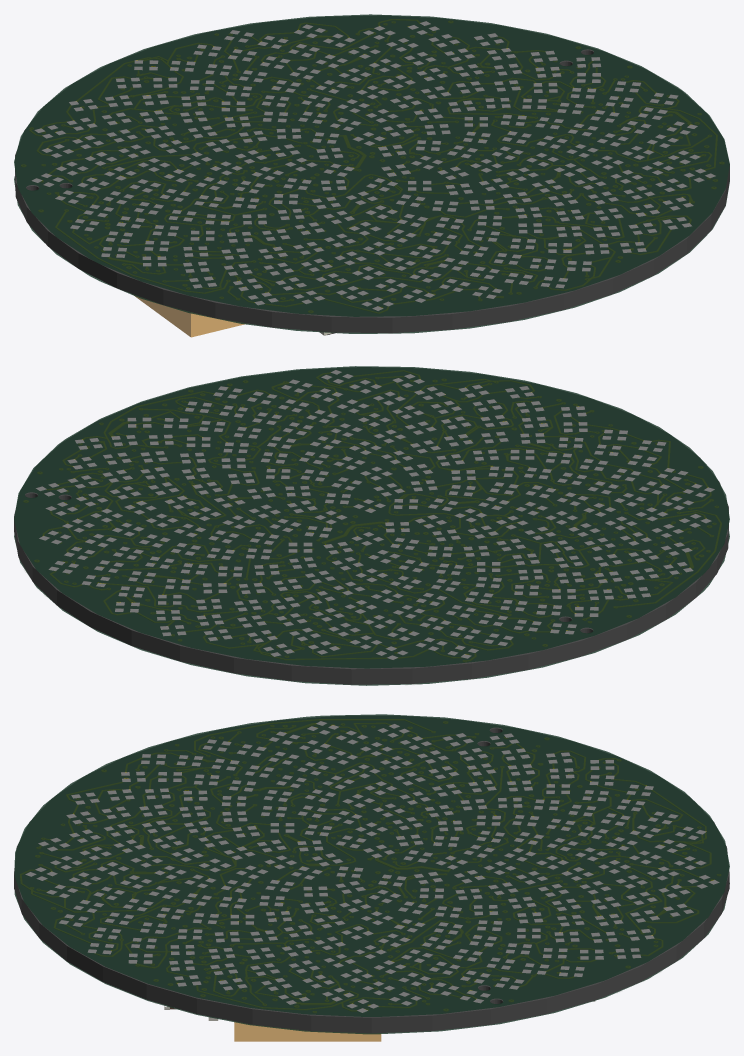
File: board.glb
3 views of the same model, one above another, from view 1: azimuth 30°, elevation 25°; view 2: azimuth 150°, elevation 25°; view 3: azimuth 270°, elevation 25° (orthographic).
Parts seen in each view (by area): view 1: round-pendant_soldermask (×2), round-pendant_PCB, round-pendant_pad, round-pendant_copper, U1; view 2: round-pendant_soldermask (×2), round-pendant_PCB, round-pendant_pad, round-pendant_copper; view 3: round-pendant_soldermask (×2), round-pendant_PCB, round-pendant_pad, round-pendant_copper, U2.
Boxes of the visible parts, x1,y1,x2,y2 form: round-pendant_soldermask (×2): [14, 14, 729, 333]; round-pendant_PCB: [15, 16, 729, 333]; round-pendant_pad: [32, 21, 715, 310]; round-pendant_copper: [21, 19, 723, 313]; U1: [134, 295, 244, 337]; round-pendant_soldermask (×2): [14, 366, 729, 685]; round-pendant_PCB: [14, 367, 728, 684]; round-pendant_pad: [35, 370, 714, 659]; round-pendant_copper: [24, 371, 721, 661]; round-pendant_soldermask (×2): [14, 714, 729, 1034]; round-pendant_PCB: [14, 716, 729, 1033]; round-pendant_pad: [25, 721, 719, 1012]; round-pendant_copper: [20, 719, 720, 1012]; U2: [234, 1022, 381, 1041].
Bounding box in the file's own units: 0.038 × 0.00354 × 0.038.
